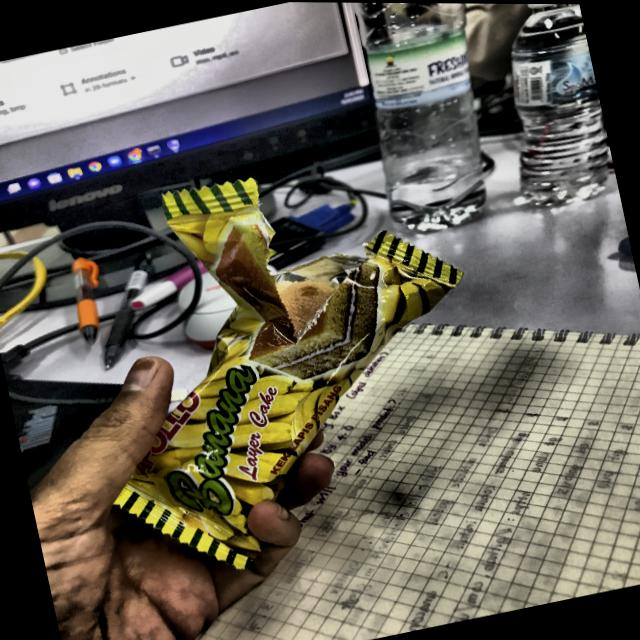Plastic: (107, 185, 462, 574)
